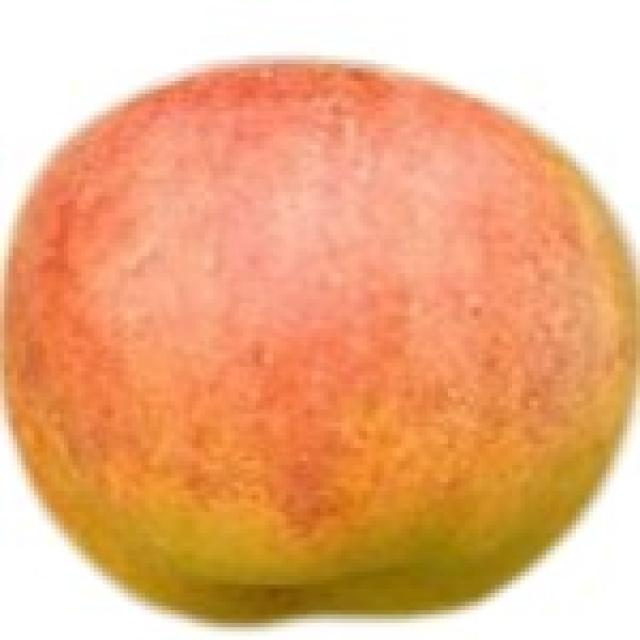75-_ripeness: (0, 58, 637, 620)
